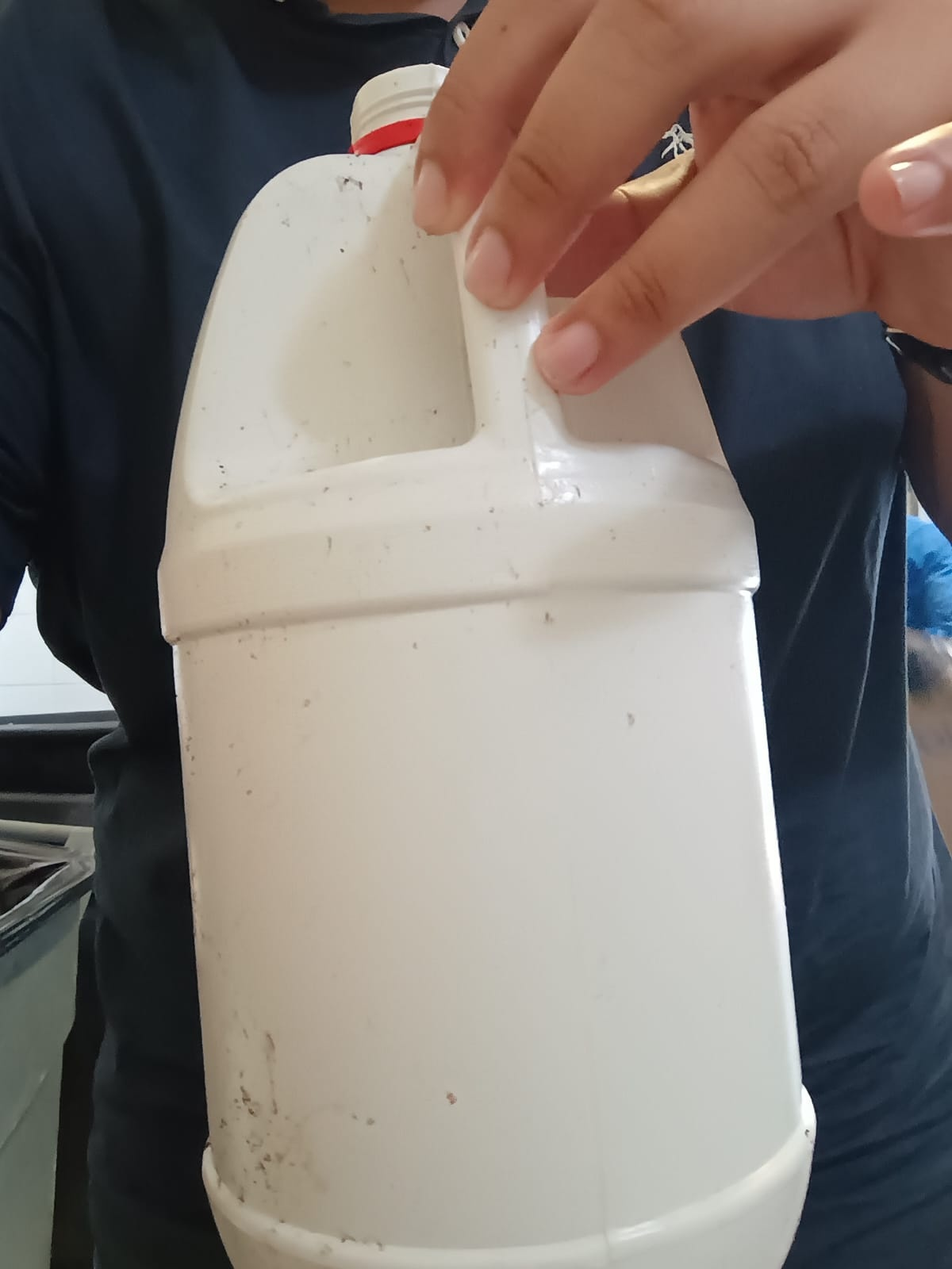Plastico: (154, 62, 821, 1269)
